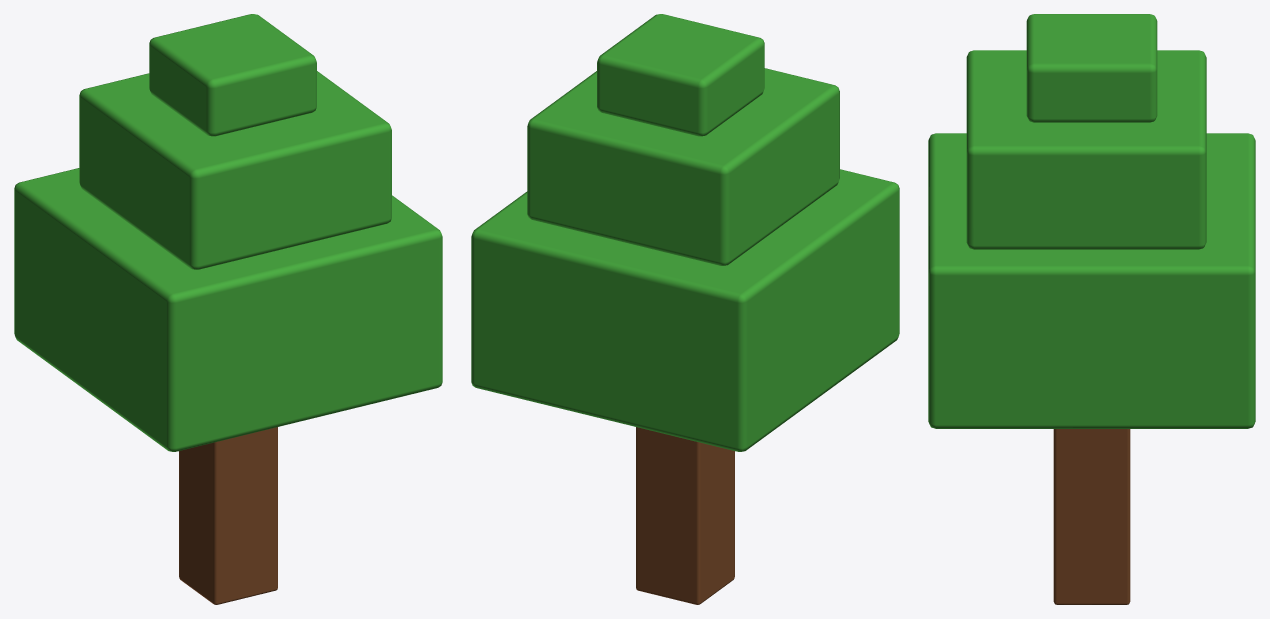
The model's file is tree_a.glb.
3 views of the same model, side by side, from view 1: azimuth 30°, elevation 25°; view 2: azimuth 150°, elevation 25°; view 3: azimuth 270°, elevation 25° (orthographic). The views are drawn at different scales.
Visible parts, largest first — view 1: Leaves, Trunk; view 2: Leaves, Trunk; view 3: Leaves, Trunk.
Boxes of the visible parts, x1,y1,x2,y2 form: Leaves: (14, 14, 442, 451); Trunk: (179, 427, 277, 604); Leaves: (471, 14, 899, 451); Trunk: (636, 427, 734, 604); Leaves: (928, 14, 1255, 428); Trunk: (1053, 429, 1130, 604).
Size of the model in its own units: 3 by 5.6 by 3.
